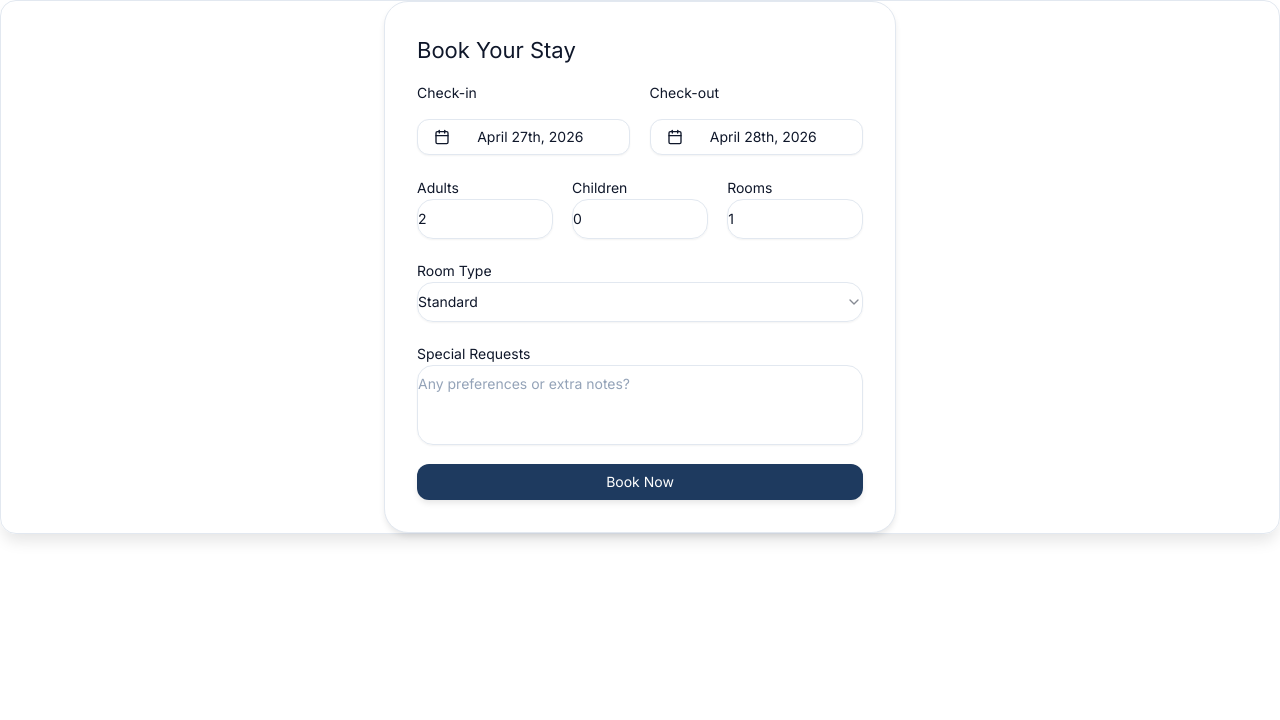
BookingWidget - Story 1.5 Implementation › AC2: Form Validation and User Experience › shows loading state during form submission
Click the button "Book Now": {"x": 640, "y": 482} top-left (417, 464), bottom-right (863, 500)
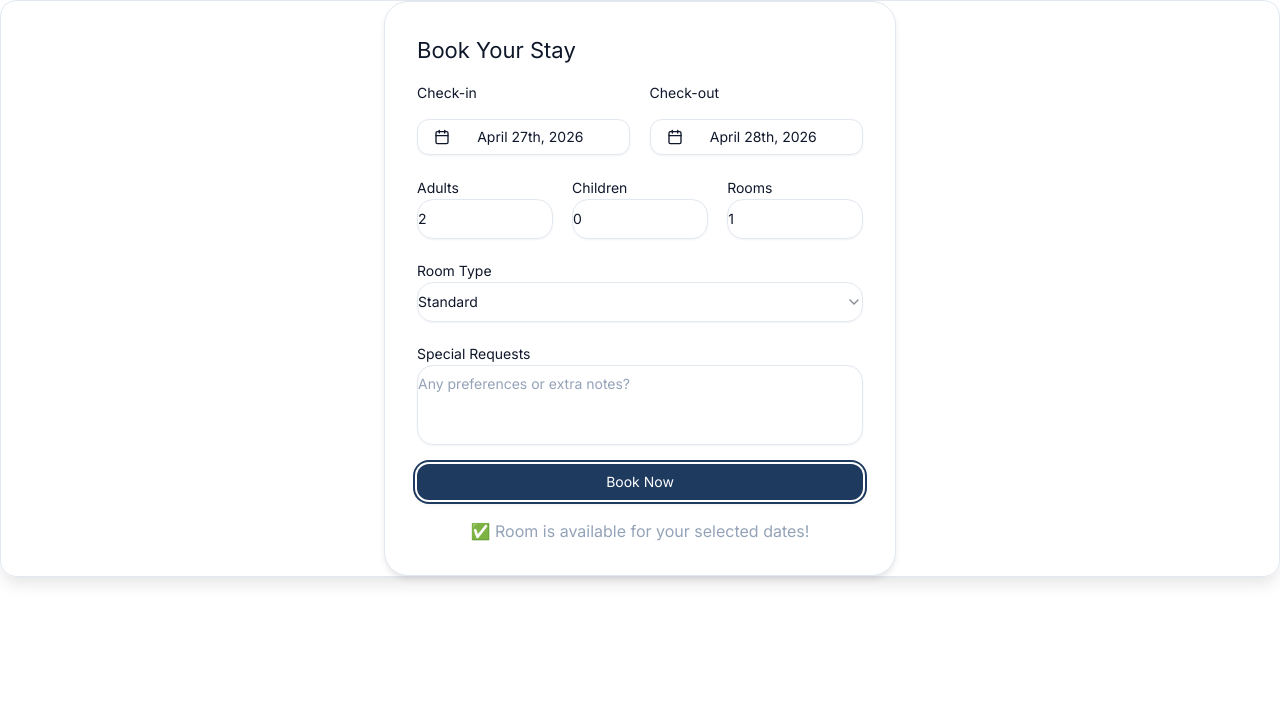
Check: the text "✅ Room is available for your selected dates!" is shown, box top-left (471, 521), bottom-right (809, 541)
